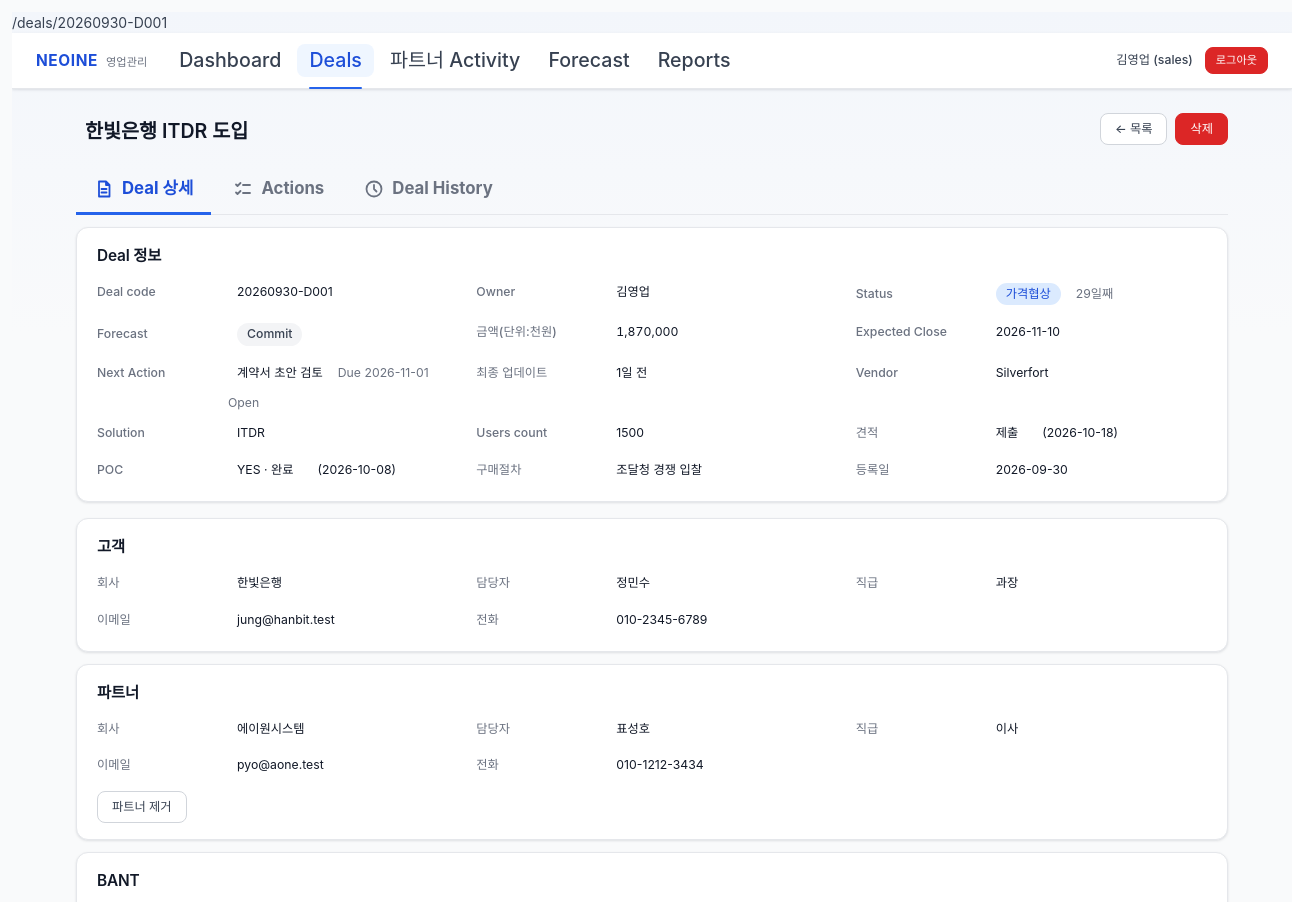
Scenario: 고객사 인라인 편집 (회사명 pulldown + 자동완성) › discards the whole contact edit with Escape and keeps the old contact
Expected: the heading "한빛은행 ITDR 도입" is shown, x1=76 y1=113 x2=257 y2=150
Click the button with aria-label "고객 회사명 수정" at (260, 583), box x1=228 y1=568 x2=291 y2=598
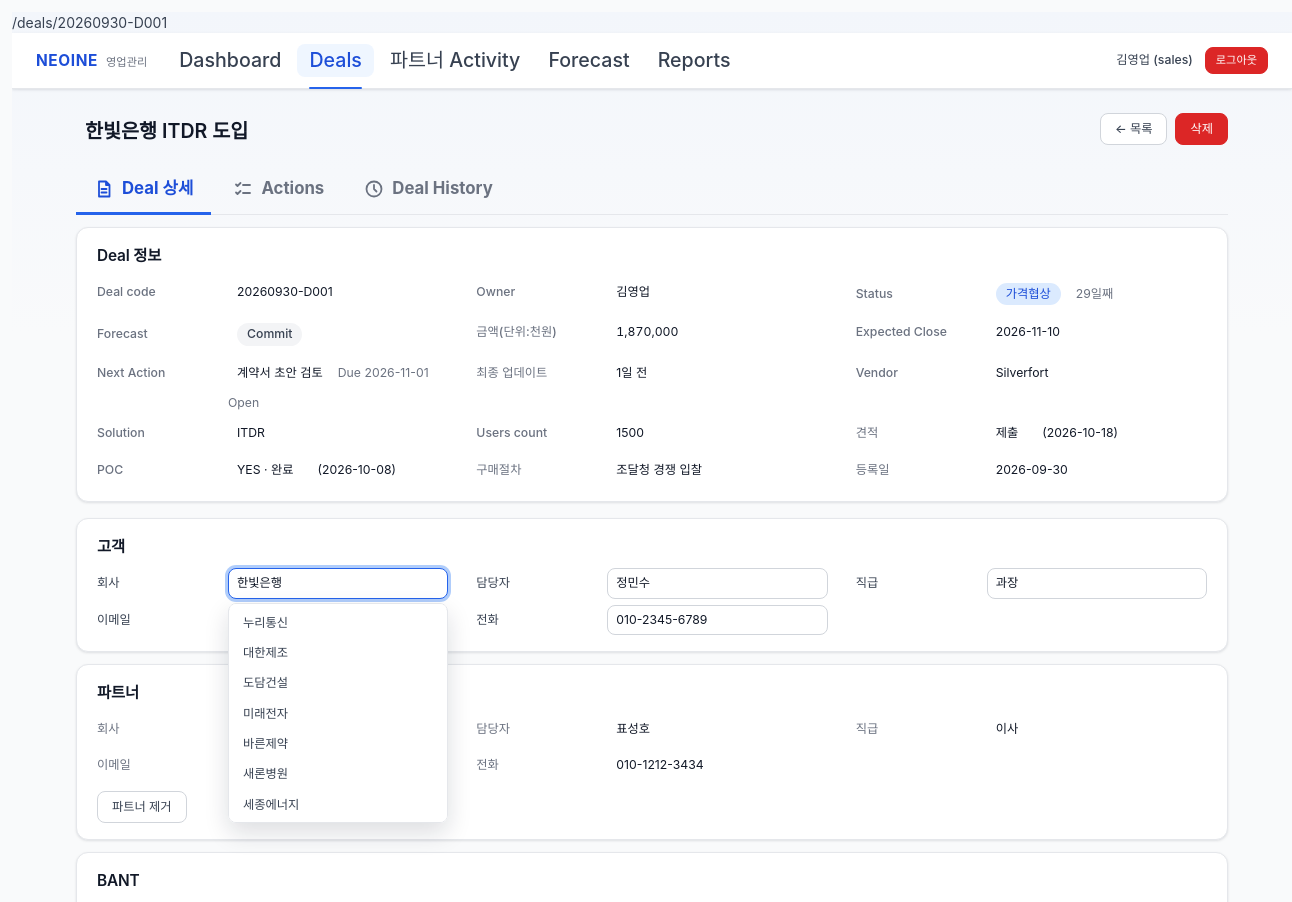
Replace the text in the dropdown named "고객 회사명" with "다른회사" at (338, 583), box x1=228 y1=568 x2=448 y2=598
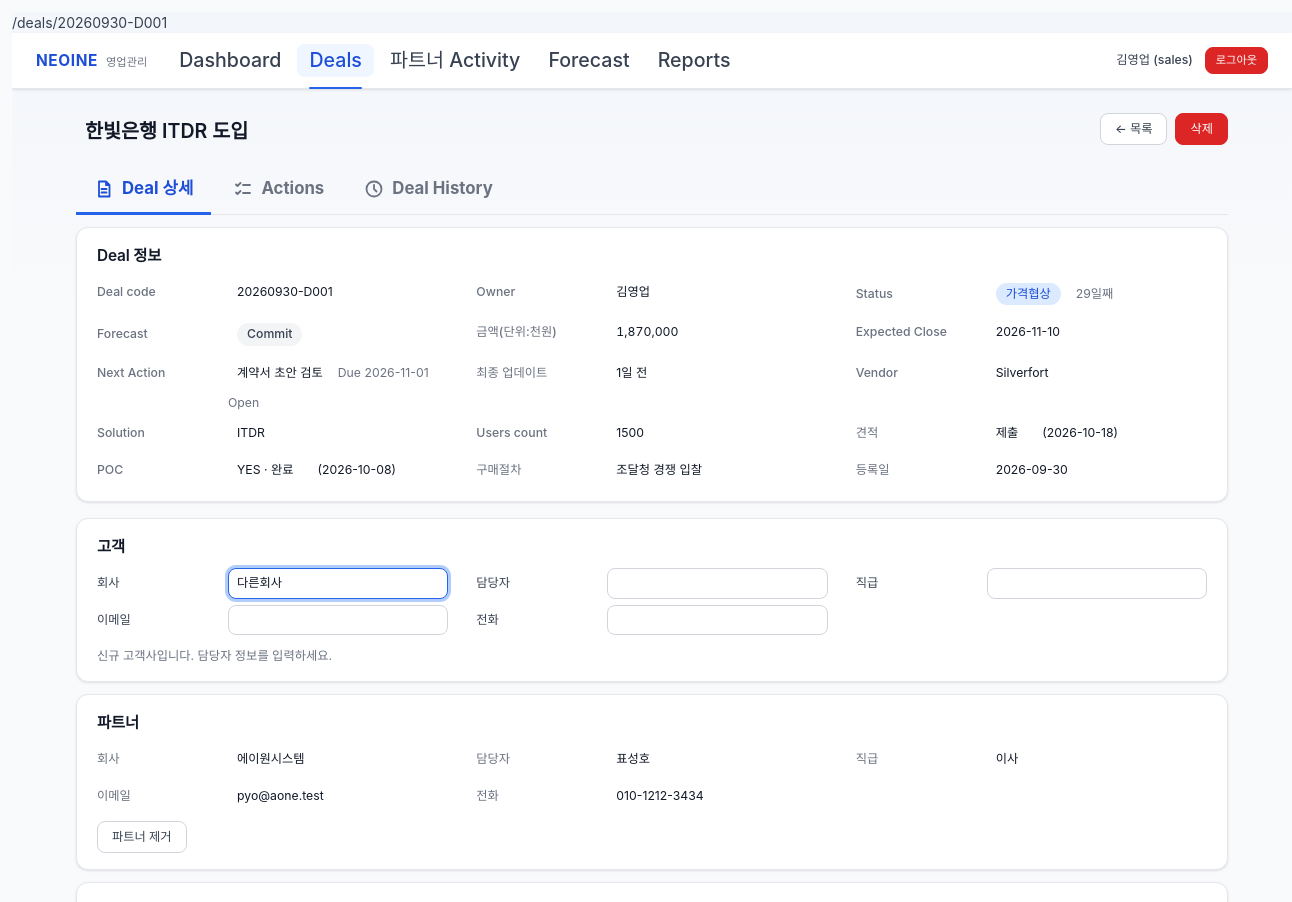
Press Escape Escape
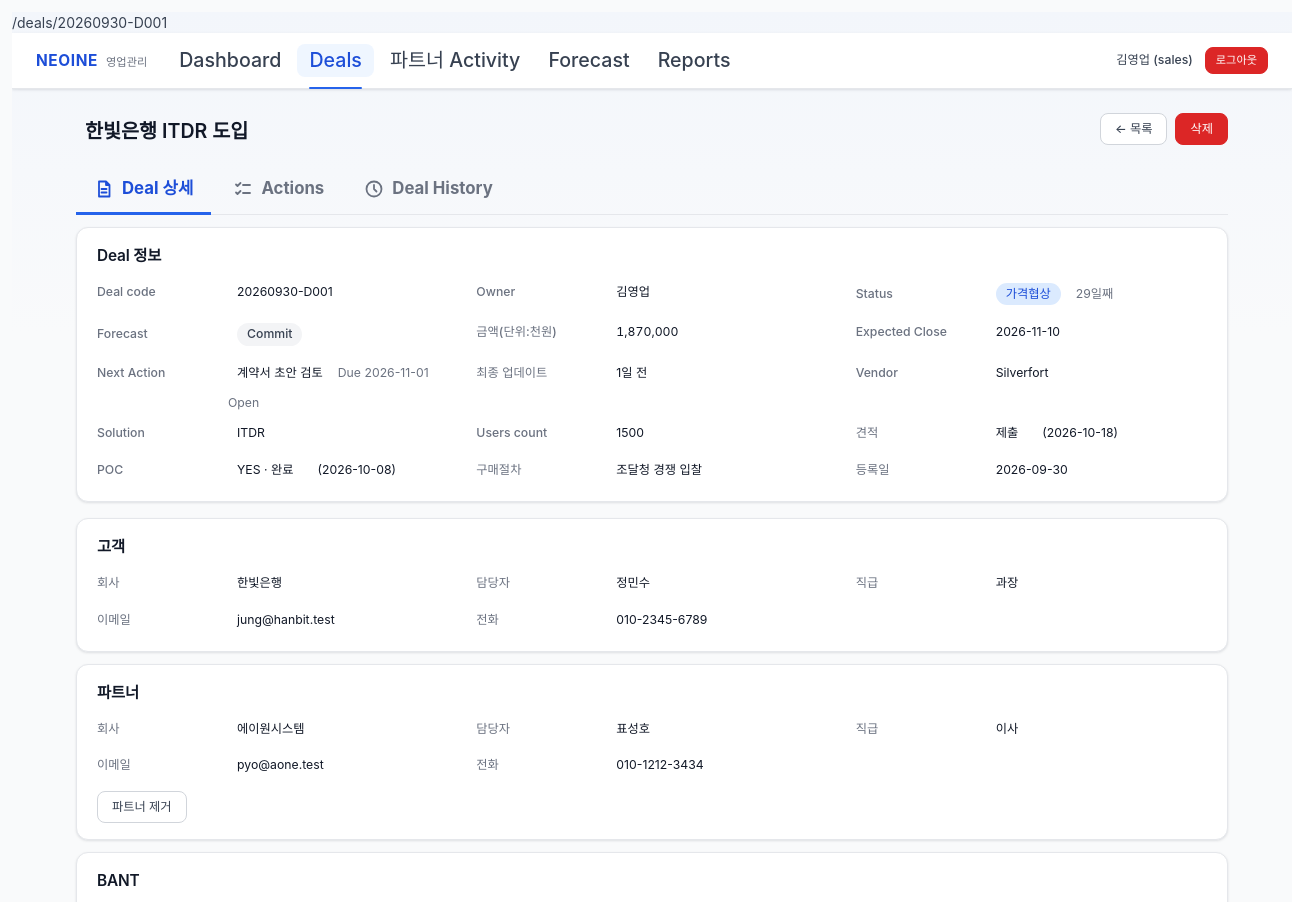
Expected: the button with aria-label "고객 회사명 수정" reads "한빛은행", x1=228 y1=568 x2=291 y2=598
Expected: the button with aria-label "고객 담당자명 수정" reads "정민수", x1=607 y1=568 x2=659 y2=598
